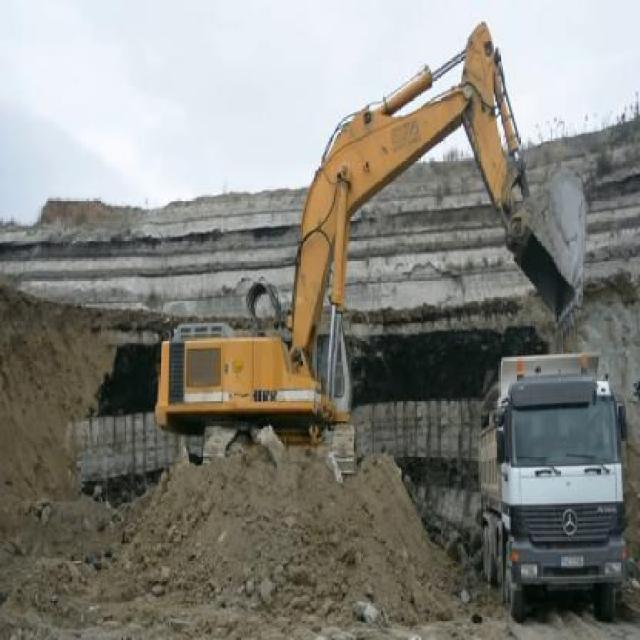dump_truck: (472, 358, 626, 619)
excavator: (155, 19, 592, 458)
